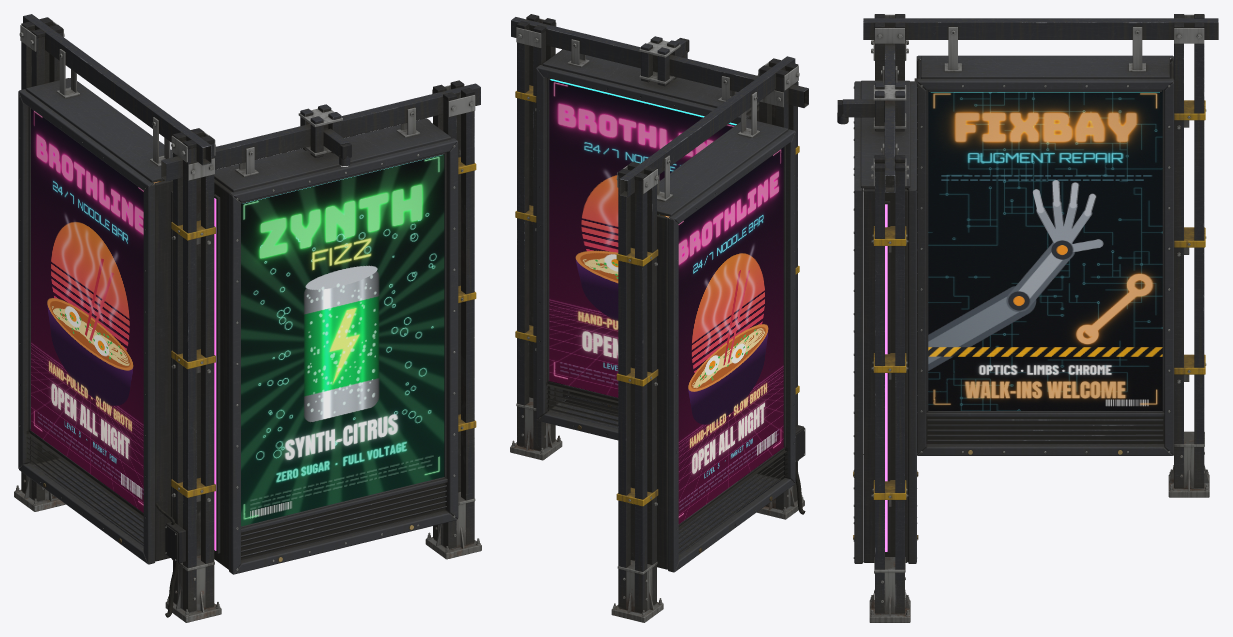
The picture shows the model from 3 angles, left to right: view 1: azimuth 30°, elevation 25°; view 2: azimuth 150°, elevation 25°; view 3: azimuth 270°, elevation 25°; orthographic projection. The views are drawn at different scales.
Parts seen in each view (by area): view 1: SM_OCK_StandingSignFrame_A_Posters, SM_OCK_StandingSignFrame_A_FrameX, SM_OCK_StandingSignFrame_A_FrameY, SM_OCK_StandingSignFrame_A_Post, SM_OCK_StandingSignFrame_A_Rail, SM_OCK_StandingSignFrame_A_Base; view 2: SM_OCK_StandingSignFrame_A_Posters, SM_OCK_StandingSignFrame_A_Post, SM_OCK_StandingSignFrame_A_FrameY, SM_OCK_StandingSignFrame_A_FrameX, SM_OCK_StandingSignFrame_A_Rail, SM_OCK_StandingSignFrame_A_Base; view 3: SM_OCK_StandingSignFrame_A_Posters, SM_OCK_StandingSignFrame_A_FrameY, SM_OCK_StandingSignFrame_A_Post, SM_OCK_StandingSignFrame_A_FrameX, SM_OCK_StandingSignFrame_A_Rail, SM_OCK_StandingSignFrame_A_Base.
Boxes of the visible parts, <box> form: SM_OCK_StandingSignFrame_A_Posters: <box>30,108,444,526</box>; SM_OCK_StandingSignFrame_A_FrameX: <box>214,118,458,574</box>; SM_OCK_StandingSignFrame_A_FrameY: <box>18,78,172,564</box>; SM_OCK_StandingSignFrame_A_Post: <box>21,17,476,612</box>; SM_OCK_StandingSignFrame_A_Rail: <box>19,14,480,501</box>; SM_OCK_StandingSignFrame_A_Base: <box>14,475,481,622</box>; SM_OCK_StandingSignFrame_A_Posters: <box>548,78,784,523</box>; SM_OCK_StandingSignFrame_A_Post: <box>515,14,799,612</box>; SM_OCK_StandingSignFrame_A_FrameY: <box>657,119,795,572</box>; SM_OCK_StandingSignFrame_A_FrameX: <box>536,49,759,440</box>; SM_OCK_StandingSignFrame_A_Rail: <box>511,17,808,505</box>; SM_OCK_StandingSignFrame_A_Base: <box>510,397,805,622</box>; SM_OCK_StandingSignFrame_A_Posters: <box>925,89,1165,410</box>; SM_OCK_StandingSignFrame_A_FrameY: <box>914,55,1174,455</box>; SM_OCK_StandingSignFrame_A_Post: <box>872,14,1206,613</box>; SM_OCK_StandingSignFrame_A_FrameX: <box>853,80,918,563</box>; SM_OCK_StandingSignFrame_A_Rail: <box>837,14,1218,506</box>; SM_OCK_StandingSignFrame_A_Base: <box>869,431,1209,622</box>.
Size of the model in its own units: 1.68 by 2.4 by 1.77.
Materials: 8 (8 with a texture image).
